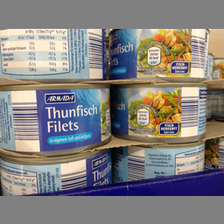fish: (1, 83, 112, 157), (111, 83, 208, 139), (1, 29, 108, 79), (108, 30, 210, 79), (1, 154, 114, 193), (113, 140, 206, 183)
